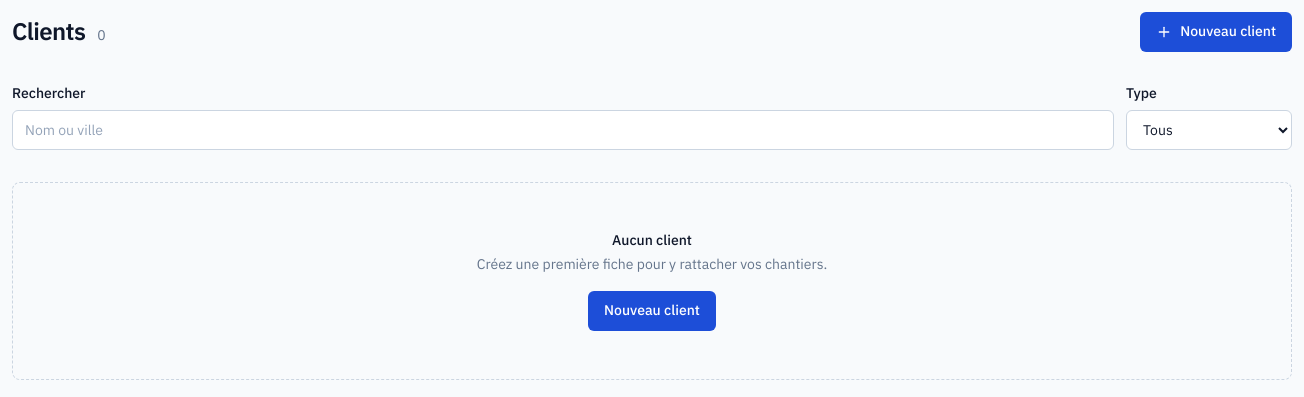
Test case: ClientListPage › says "aucun client" when there is none, and "no result" under a search
Expected: the text "Aucun client" is shown, x1=612 y1=230 x2=692 y2=251
Type "tunis" into the search field labelled "Rechercher". click: (563, 130)
box: x1=12 y1=110 x2=1114 y2=150
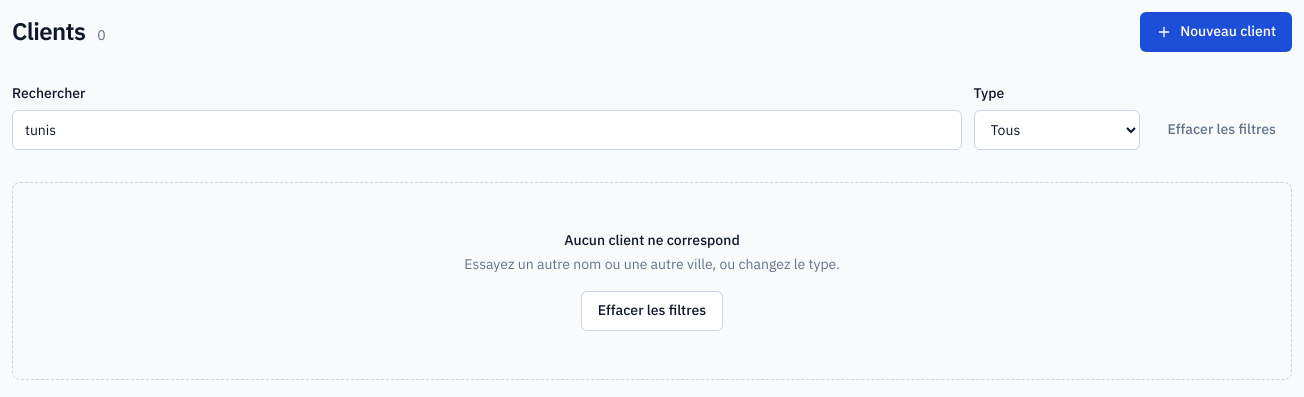
Expected: the text "Aucun client ne correspond" is shown, x1=564 y1=230 x2=740 y2=251
